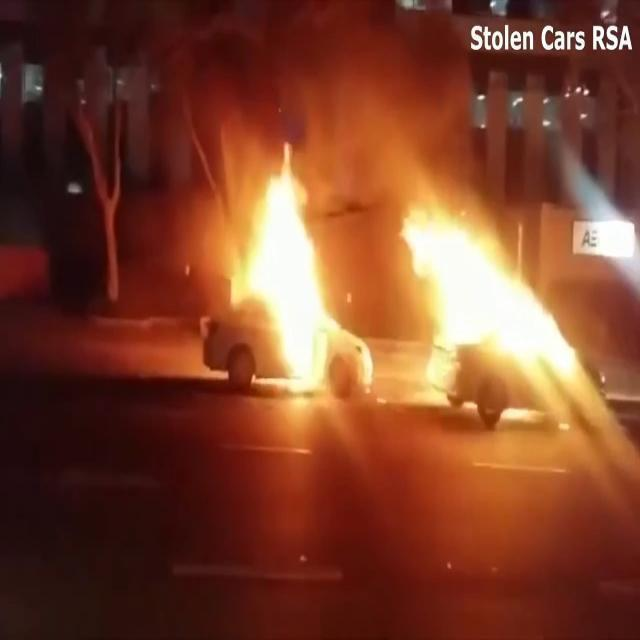fire: (414, 180, 560, 407), (230, 152, 336, 388)
